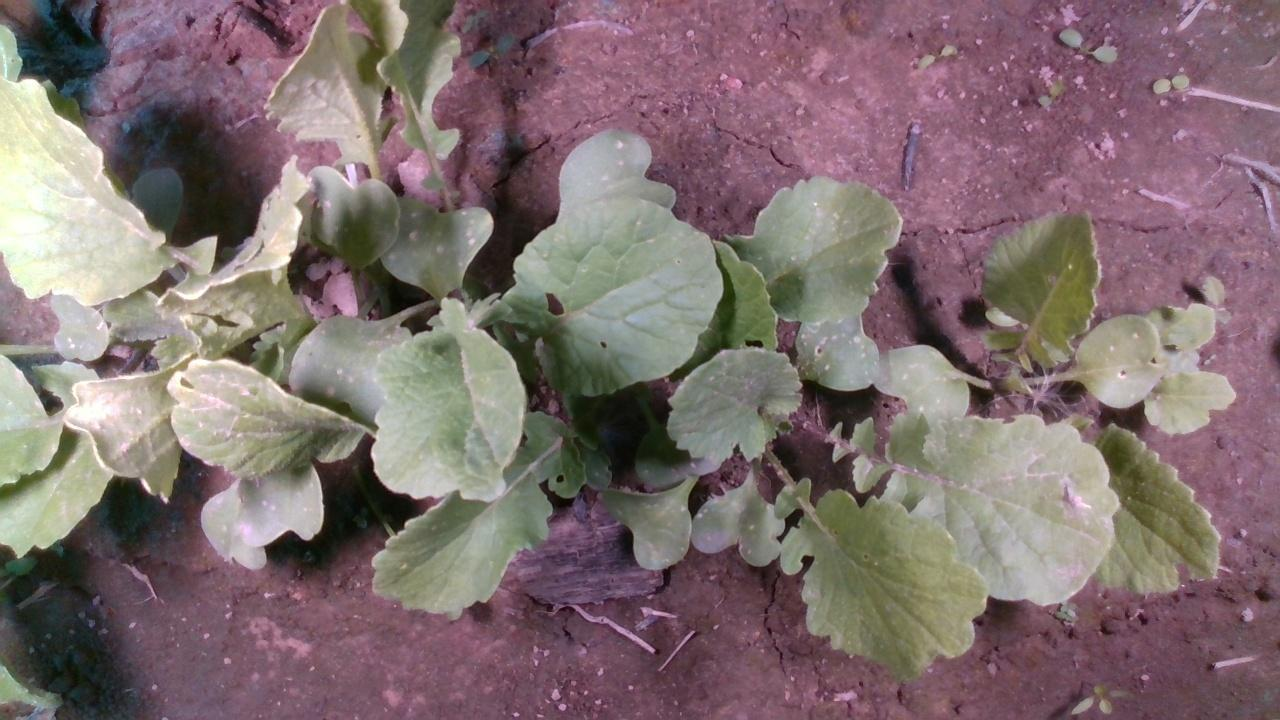weed: (1049, 27, 1122, 64)
